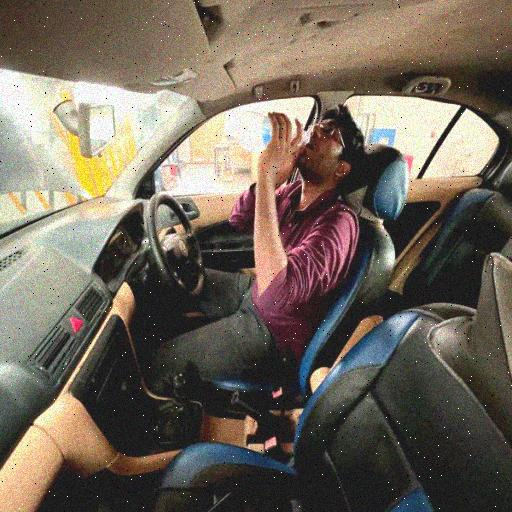Drinking: (199, 105, 370, 352)
